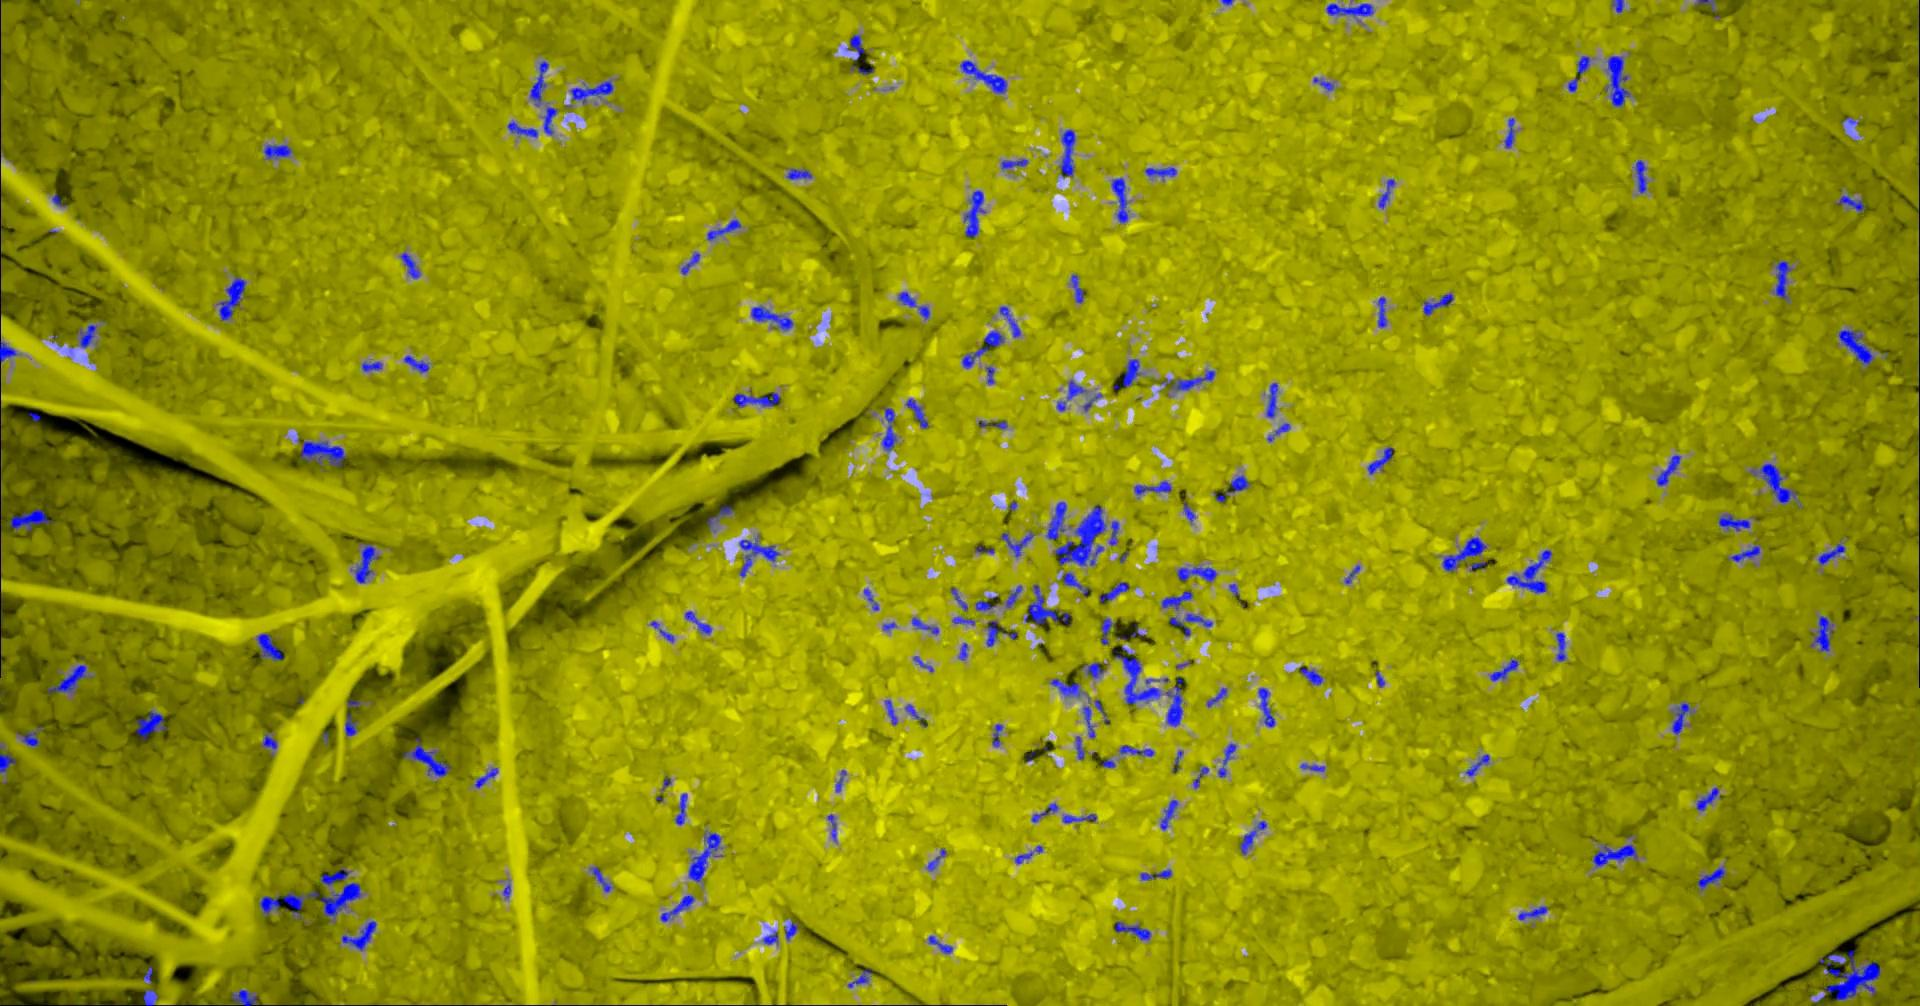ant: (1112, 647, 1162, 704), (403, 735, 452, 776), (1509, 549, 1553, 592), (1026, 584, 1070, 625), (1754, 464, 1799, 503), (690, 832, 724, 882), (963, 330, 1004, 368), (961, 60, 1008, 93), (1444, 536, 1487, 572), (740, 539, 781, 575), (1840, 328, 1876, 365), (50, 664, 93, 694), (220, 276, 248, 320), (301, 439, 347, 466), (352, 542, 381, 583), (1608, 55, 1630, 105), (1163, 370, 1217, 390), (343, 920, 378, 950), (1594, 843, 1638, 868), (752, 305, 794, 330), (571, 80, 615, 103), (965, 191, 987, 236), (11, 508, 55, 531), (137, 710, 168, 741), (1241, 821, 1269, 854), (1217, 475, 1251, 502), (1003, 531, 1036, 558), (1167, 677, 1185, 727), (531, 60, 550, 105), (662, 895, 696, 921), (1114, 358, 1142, 389), (1112, 177, 1130, 222), (988, 620, 1018, 647), (1048, 500, 1068, 540), (1658, 453, 1683, 486), (1812, 615, 1834, 652), (258, 633, 284, 661), (734, 391, 782, 406), (1062, 130, 1077, 177), (709, 218, 742, 240), (1369, 447, 1396, 474), (1258, 687, 1276, 727), (1425, 292, 1455, 315), (907, 398, 930, 428), (883, 406, 898, 451), (1818, 540, 1846, 564), (1698, 866, 1726, 890), (1001, 306, 1022, 337), (1328, 3, 1375, 17), (1777, 260, 1793, 300), (686, 610, 712, 634), (1116, 921, 1152, 939), (1101, 580, 1130, 602), (1491, 658, 1520, 680), (1163, 589, 1194, 610), (1219, 743, 1237, 776), (1064, 572, 1090, 594), (1672, 702, 1691, 733), (590, 866, 613, 892), (1032, 801, 1060, 822), (1051, 678, 1083, 696), (1178, 567, 1218, 580), (1719, 513, 1751, 530), (1730, 545, 1761, 561), (1467, 754, 1491, 776), (321, 868, 350, 885), (709, 506, 734, 526), (403, 251, 422, 278), (18, 727, 44, 746), (1162, 799, 1178, 829), (1698, 788, 1719, 810), (509, 121, 538, 137), (1137, 481, 1173, 494), (1380, 178, 1396, 208), (1170, 616, 1192, 636), (907, 704, 927, 727), (476, 767, 499, 788), (1519, 904, 1549, 920), (405, 354, 430, 372), (676, 793, 690, 824), (1839, 196, 1865, 212), (913, 617, 940, 634), (1636, 159, 1648, 193), (682, 251, 701, 274), (79, 324, 98, 347), (850, 968, 872, 987), (930, 935, 954, 953), (850, 34, 866, 60), (1072, 273, 1086, 302), (543, 107, 559, 133), (265, 144, 292, 159), (1269, 423, 1291, 441), (1, 746, 17, 772), (930, 847, 947, 870), (232, 989, 259, 1005), (1697, 0, 1721, 17), (1121, 744, 1156, 756), (1208, 687, 1228, 706), (952, 587, 969, 610), (1302, 667, 1324, 683), (1102, 617, 1116, 644), (1142, 869, 1173, 880), (1069, 379, 1087, 399), (1007, 586, 1023, 607), (1269, 382, 1279, 417), (1084, 706, 1096, 737), (1187, 614, 1214, 626), (1145, 166, 1178, 177), (1, 340, 18, 361), (865, 588, 880, 610), (1195, 766, 1210, 788), (886, 699, 899, 724), (899, 291, 918, 307), (1506, 117, 1516, 147), (1084, 662, 1105, 677), (1002, 158, 1029, 169), (1064, 813, 1098, 822), (1557, 633, 1567, 661), (786, 920, 800, 940), (789, 168, 813, 179), (1379, 296, 1388, 326), (1578, 55, 1592, 74), (347, 713, 358, 735), (829, 813, 838, 841), (1316, 77, 1335, 90), (979, 420, 1010, 428), (1185, 502, 1196, 522), (994, 723, 1004, 746), (143, 989, 159, 1005), (1111, 520, 1120, 545), (851, 65, 875, 74), (1077, 735, 1086, 760), (264, 733, 278, 748), (363, 361, 383, 371), (977, 600, 997, 610), (954, 616, 977, 625), (764, 930, 778, 944), (1302, 763, 1326, 771), (919, 305, 931, 319), (987, 366, 996, 384), (960, 641, 969, 659), (1613, 0, 1625, 11)
